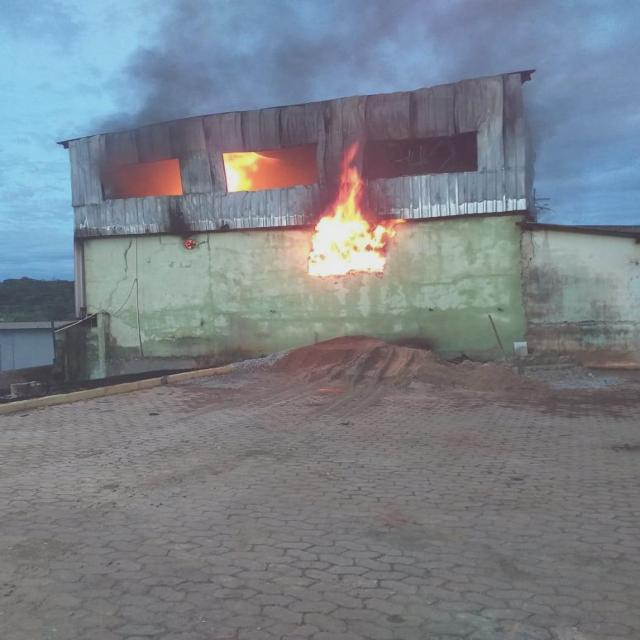fire: (308, 158, 382, 272), (224, 148, 272, 198)
